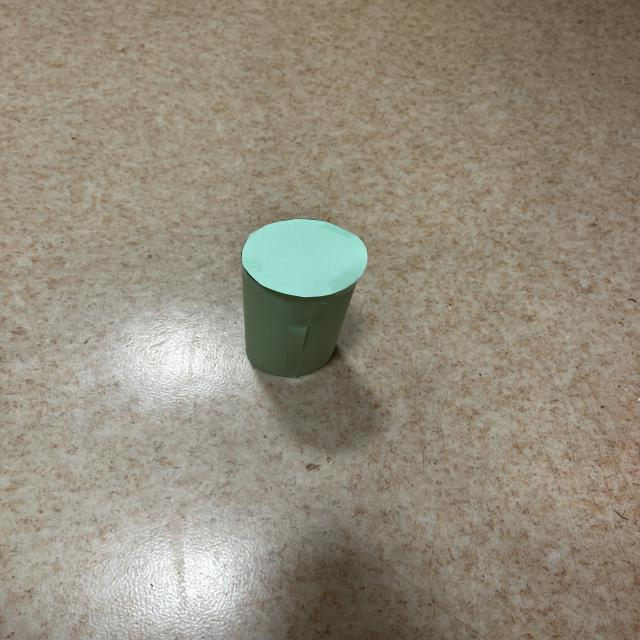meta: (241, 219, 367, 378)
